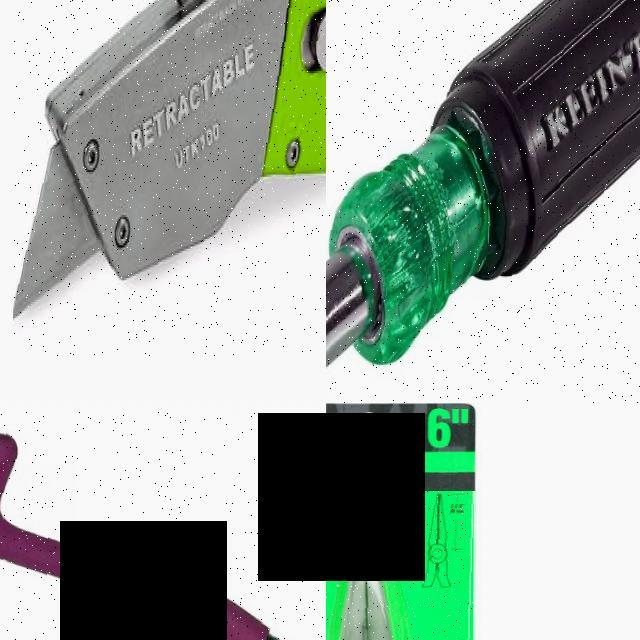estilete: (13, 0, 325, 315)
